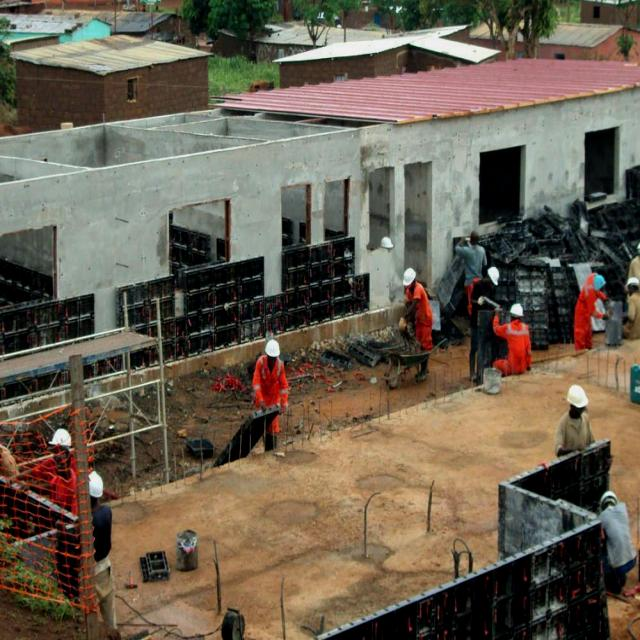hand_glove: (401, 300, 415, 325)
head_helmet: (40, 421, 71, 455), (81, 469, 104, 499), (564, 384, 590, 410), (369, 234, 397, 252), (260, 341, 282, 360), (484, 265, 502, 287), (400, 269, 418, 287), (621, 274, 638, 292), (599, 489, 617, 506), (594, 276, 608, 292), (511, 304, 528, 317)
person: (588, 485, 638, 588), (541, 382, 599, 464), (455, 258, 498, 364), (44, 428, 69, 595), (568, 264, 610, 352), (86, 468, 107, 627), (248, 345, 284, 437), (397, 268, 432, 357), (500, 297, 534, 375), (454, 224, 484, 297), (621, 276, 639, 335)
vest: (250, 358, 286, 410), (45, 457, 69, 506), (413, 282, 430, 349), (576, 281, 594, 338), (505, 327, 532, 362)
